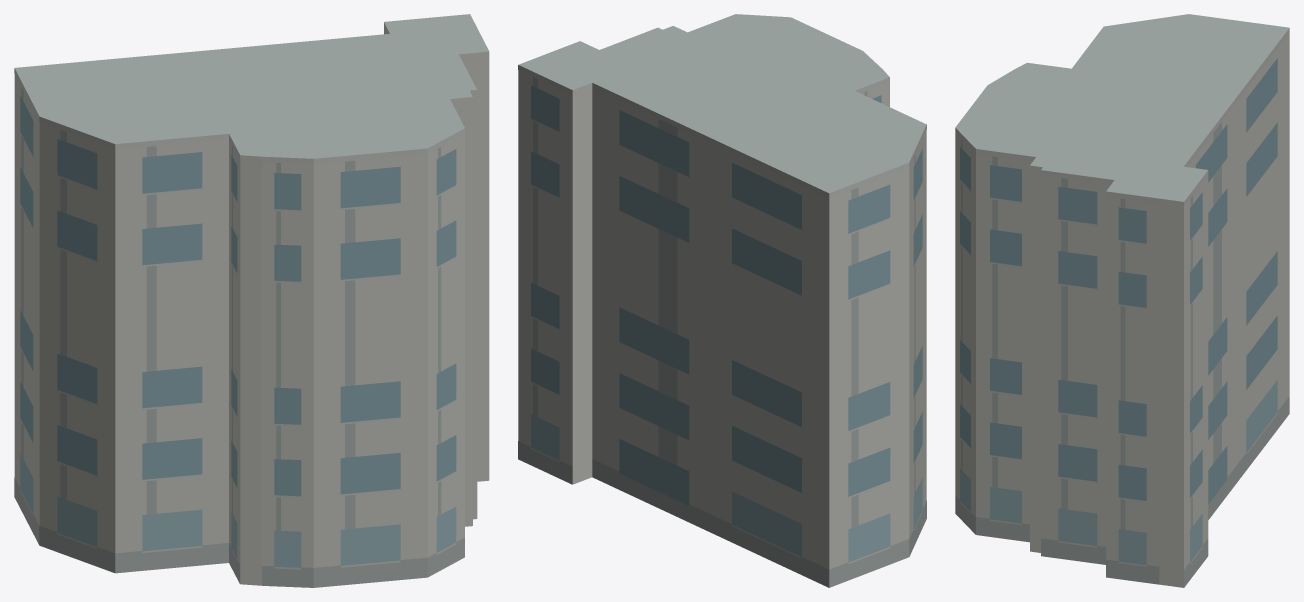
Rendered from survey-upis-32889884.glb.
3 renders of one model, left to right at view 1: azimuth 30°, elevation 25°; view 2: azimuth 150°, elevation 25°; view 3: azimuth 270°, elevation 25°, orthographic. The views are drawn at different scales.
Parts seen in each view (by area): view 1: survey-upis-32889884.tmp; view 2: survey-upis-32889884.tmp; view 3: survey-upis-32889884.tmp.
Boxes of the visible parts, box(x1,y1,x2,y2) form: survey-upis-32889884.tmp: box(14, 14, 489, 587); survey-upis-32889884.tmp: box(518, 14, 926, 587); survey-upis-32889884.tmp: box(955, 14, 1289, 587).
Bounding box in the file's own units: 19.11 × 18.3 × 14.38.
